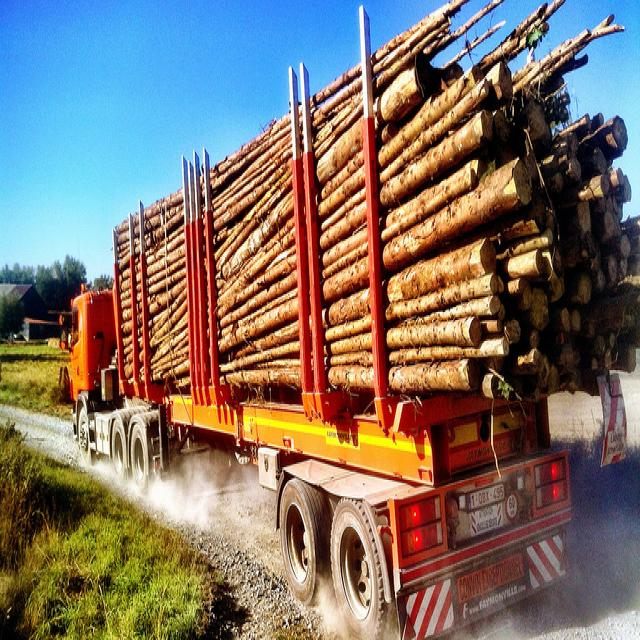Vehicle: (55, 9, 577, 630)
